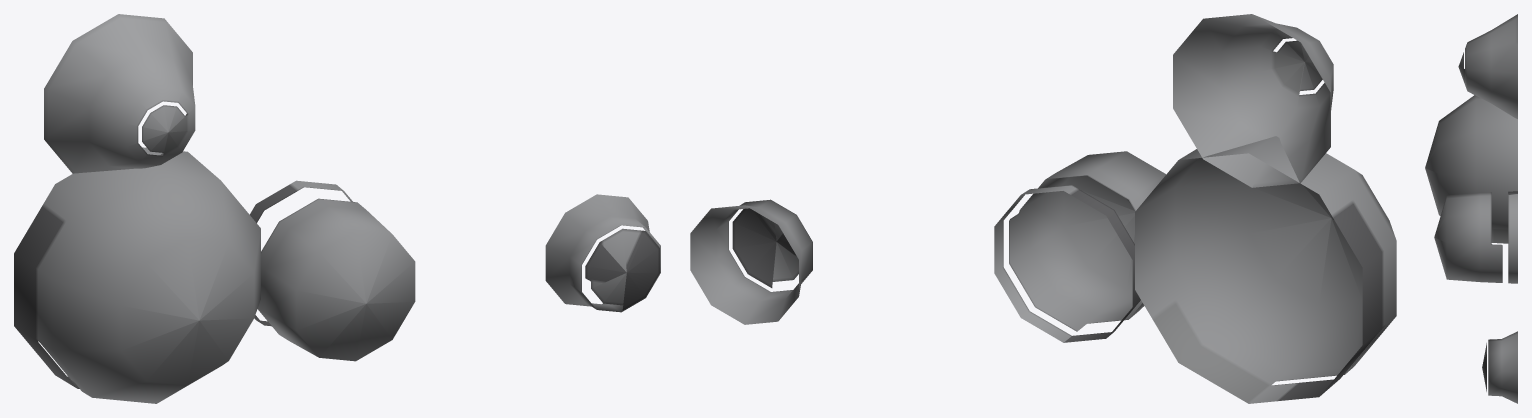
3 renders of one model, left to right at view 1: azimuth 30°, elevation 25°; view 2: azimuth 150°, elevation 25°; view 3: azimuth 270°, elevation 25°, orthographic. The views are drawn at different scales.
Size of the model in its own units: 0.3941 by 0.2435 by 0.084.
